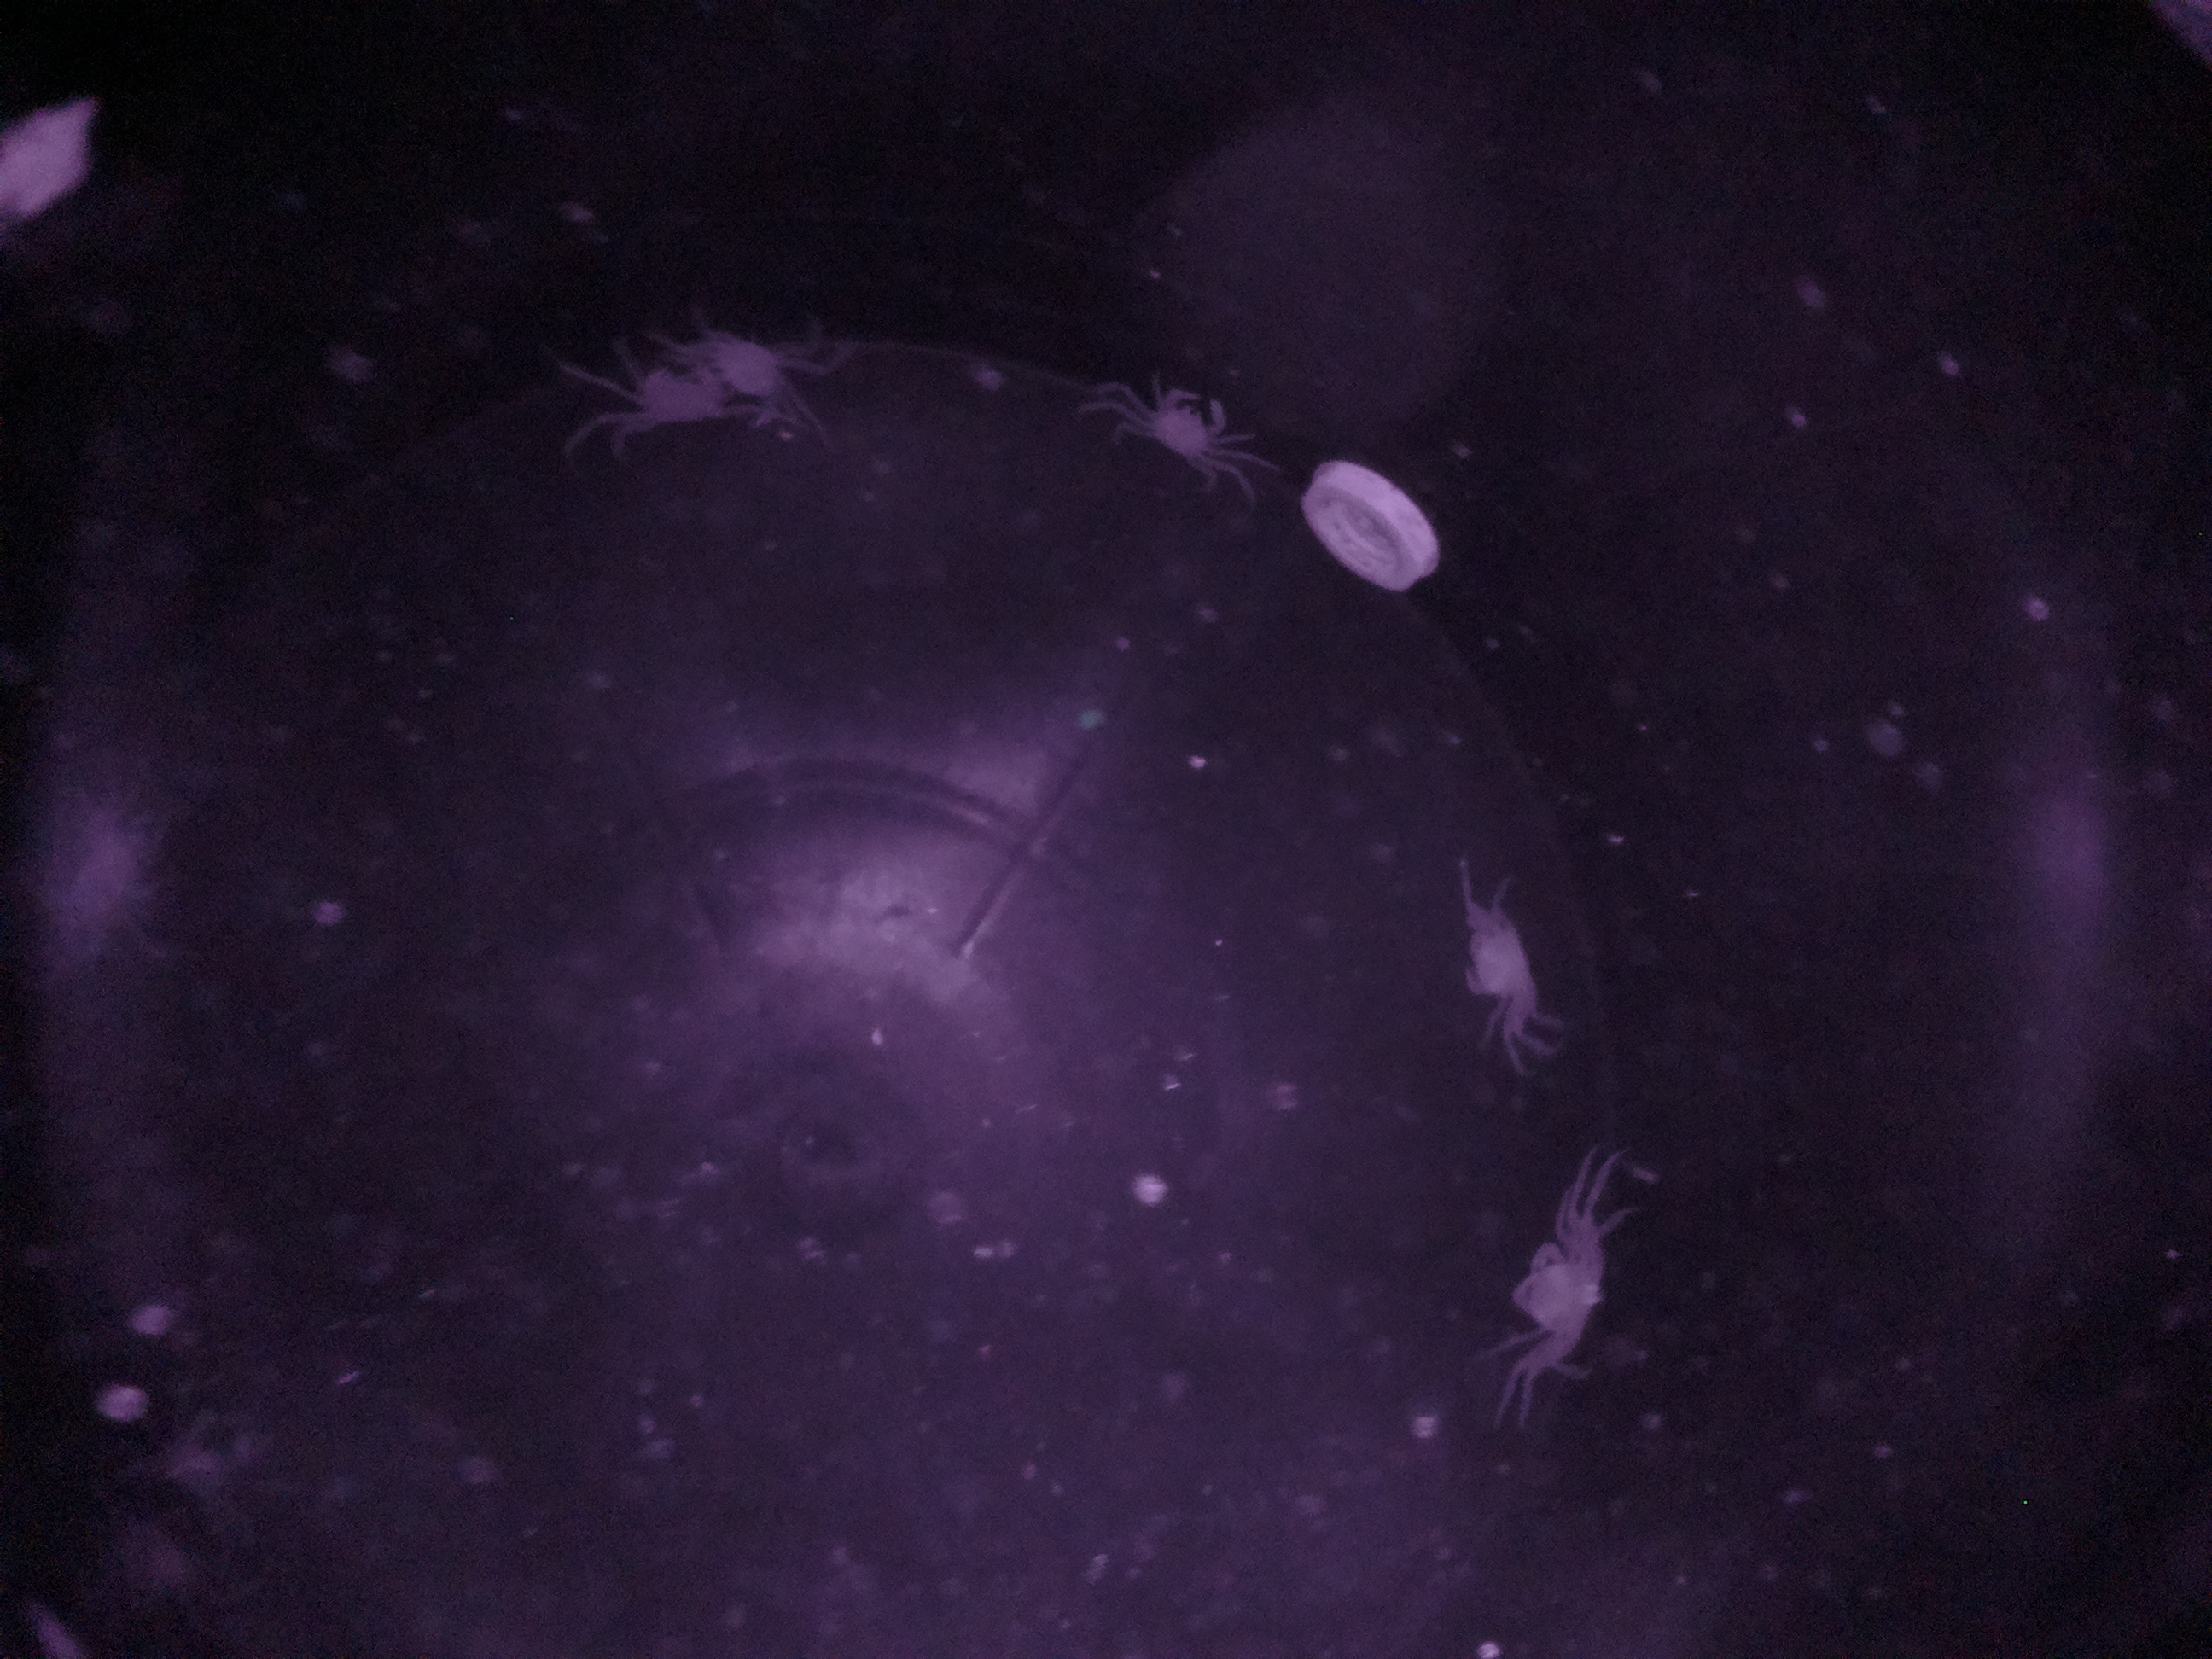Crab: (1486, 1194, 1641, 1412), (1449, 870, 1562, 1039), (1118, 361, 1251, 495)
